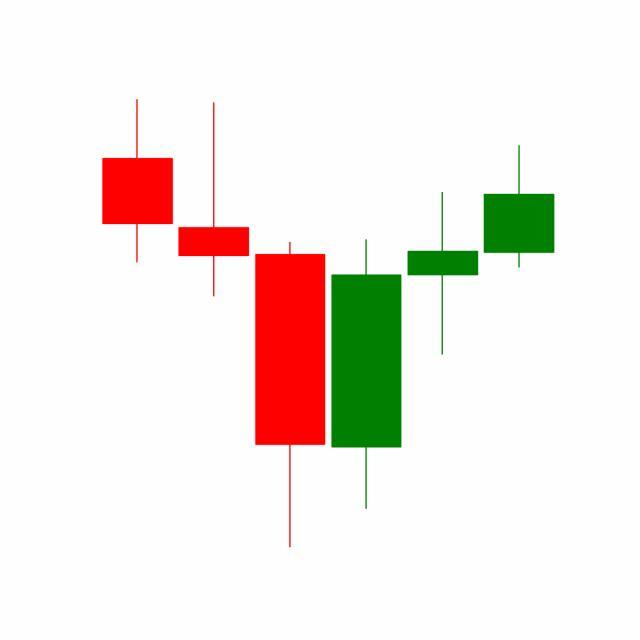Advance Block: (326, 142, 555, 514)
